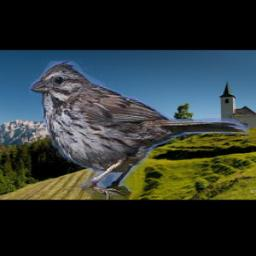Sparrow: (28, 57, 249, 200)
